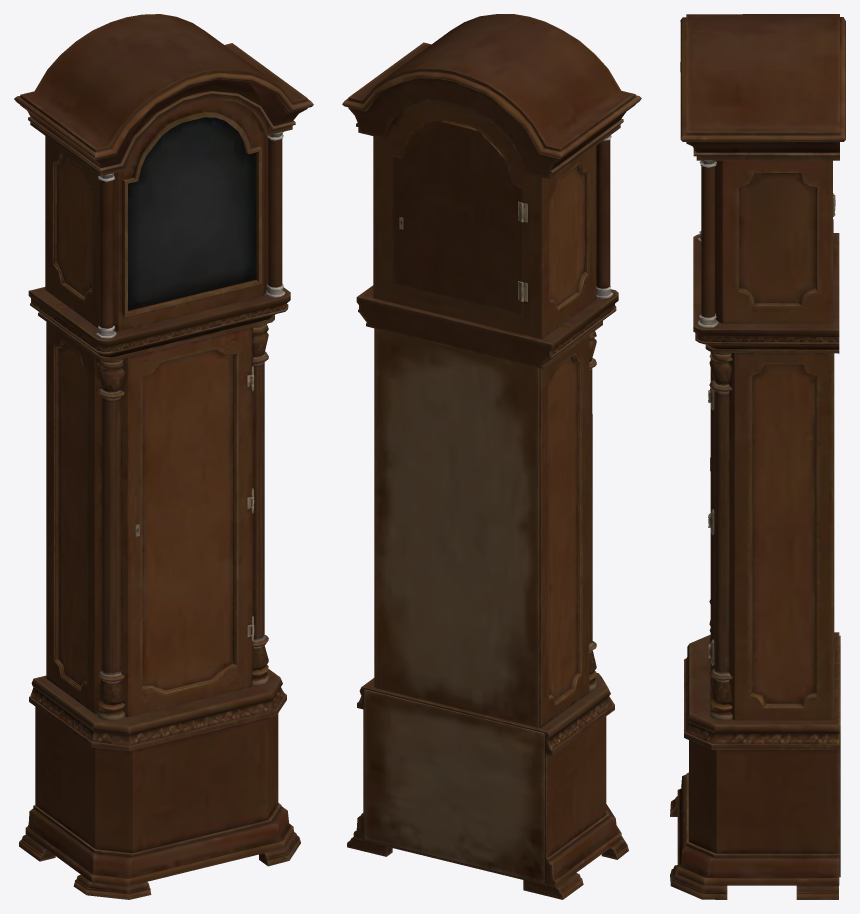
The model's file is grandfather_clock.glb.
3 views of the same model, side by side, from view 1: azimuth 30°, elevation 25°; view 2: azimuth 150°, elevation 25°; view 3: azimuth 270°, elevation 25° (orthographic). The views are drawn at different scales.
Visible parts, largest first — view 1: vintage_grandfather_clock_01_Body; view 2: vintage_grandfather_clock_01_Body; view 3: vintage_grandfather_clock_01_Body.
Boxes of the visible parts, <box> form: vintage_grandfather_clock_01_Body: <box>14,14,313,899</box>; vintage_grandfather_clock_01_Body: <box>342,14,641,899</box>; vintage_grandfather_clock_01_Body: <box>670,14,845,899</box>.
Bounding box in the file's own units: 0.6255 × 2.19 × 0.4265.
2 materials, 2 textured.
